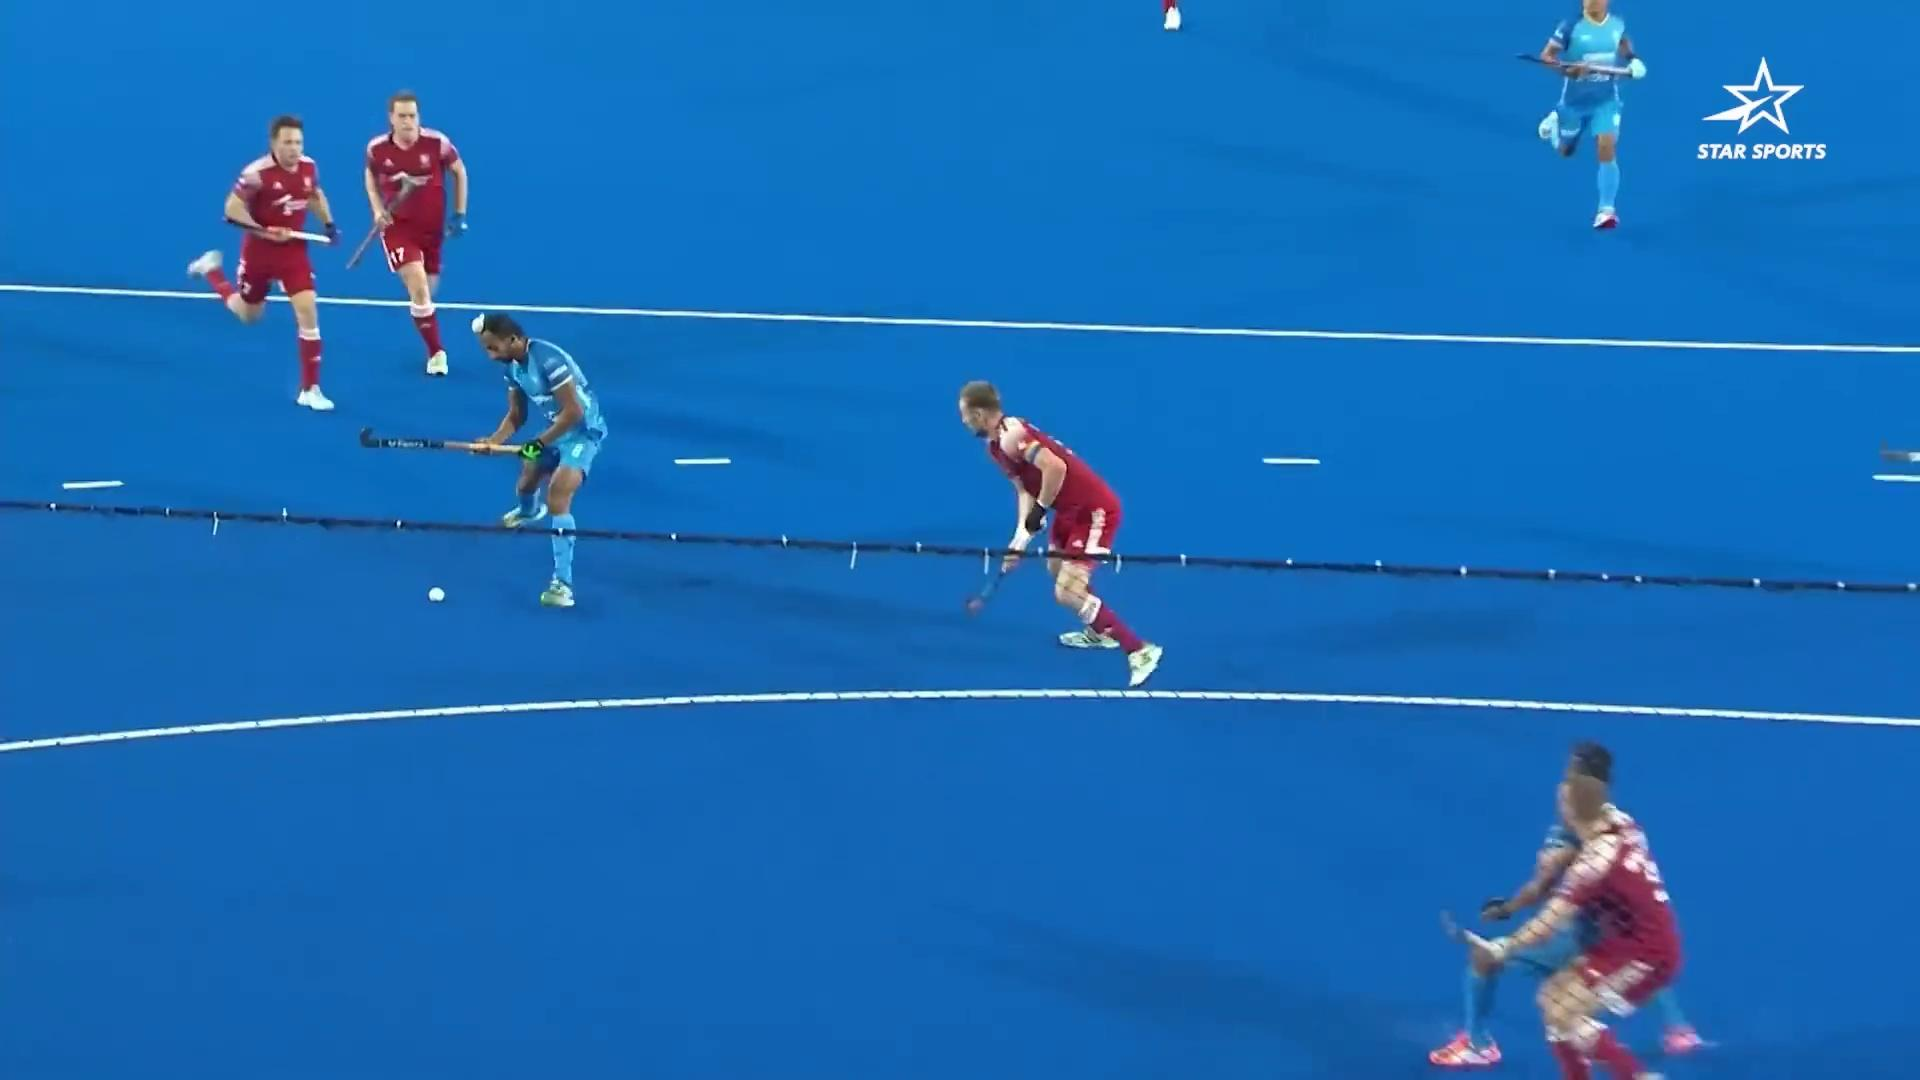ball: (393, 562, 463, 618)
